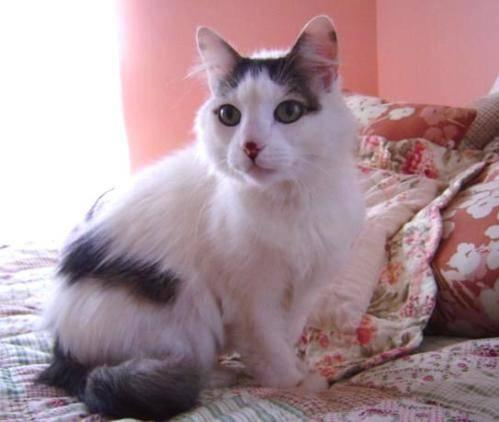cat: (39, 15, 371, 420)
